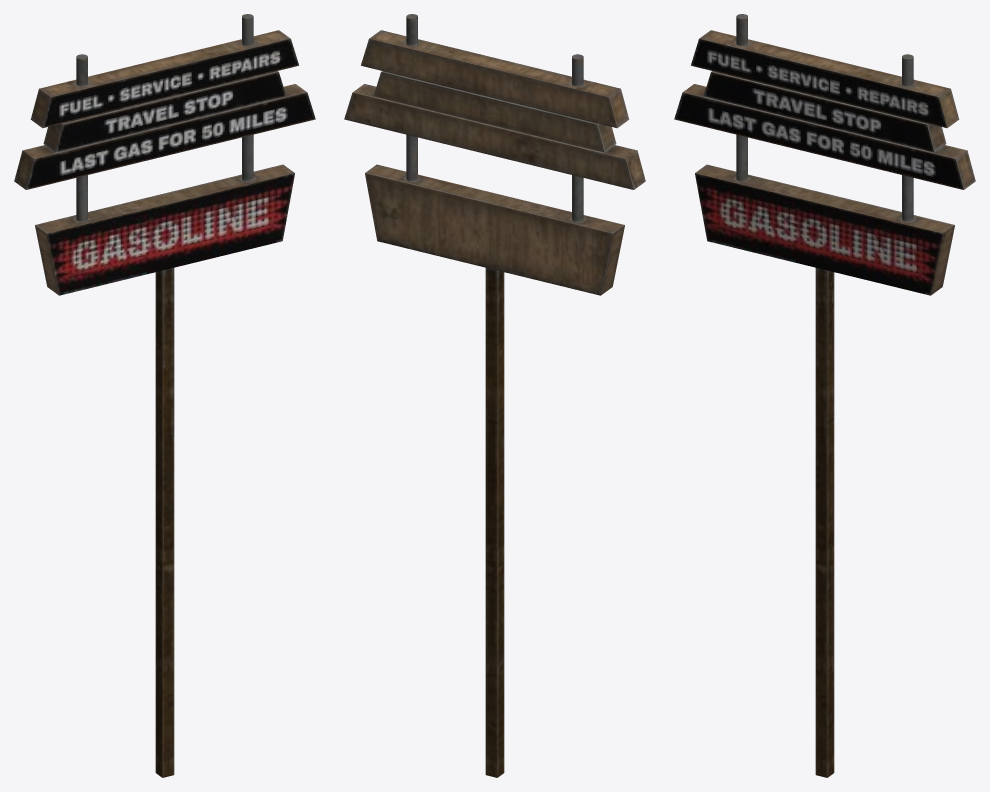
File: gas_sign.glb
3 renders of one model, left to right at view 1: azimuth 30°, elevation 25°; view 2: azimuth 150°, elevation 25°; view 3: azimuth 330°, elevation 25°, orthographic.
Visible parts, largest first — view 1: Tall Sign converted.001; view 2: Tall Sign converted.001; view 3: Tall Sign converted.001.
Part boxes in pixels (x1=…): Tall Sign converted.001: x1=14, y1=14, x2=315, y2=777; Tall Sign converted.001: x1=344, y1=14, x2=645, y2=777; Tall Sign converted.001: x1=674, y1=14, x2=975, y2=777.
Size of the model in its own units: 2.8 by 6.81 by 0.2.
Materials: 1 (1 with a texture image).
